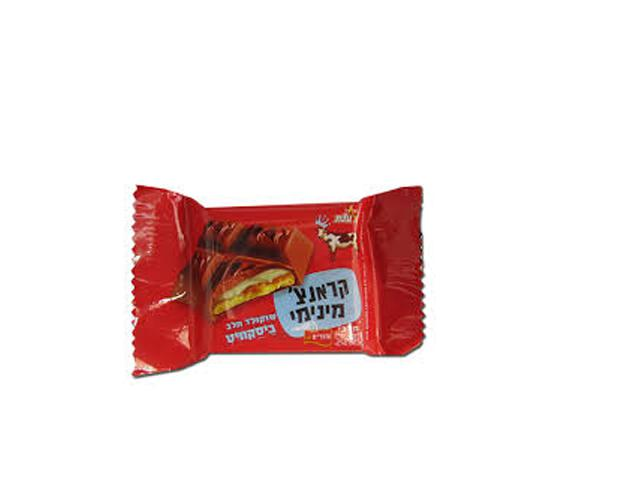chocolate: (128, 187, 449, 395)
